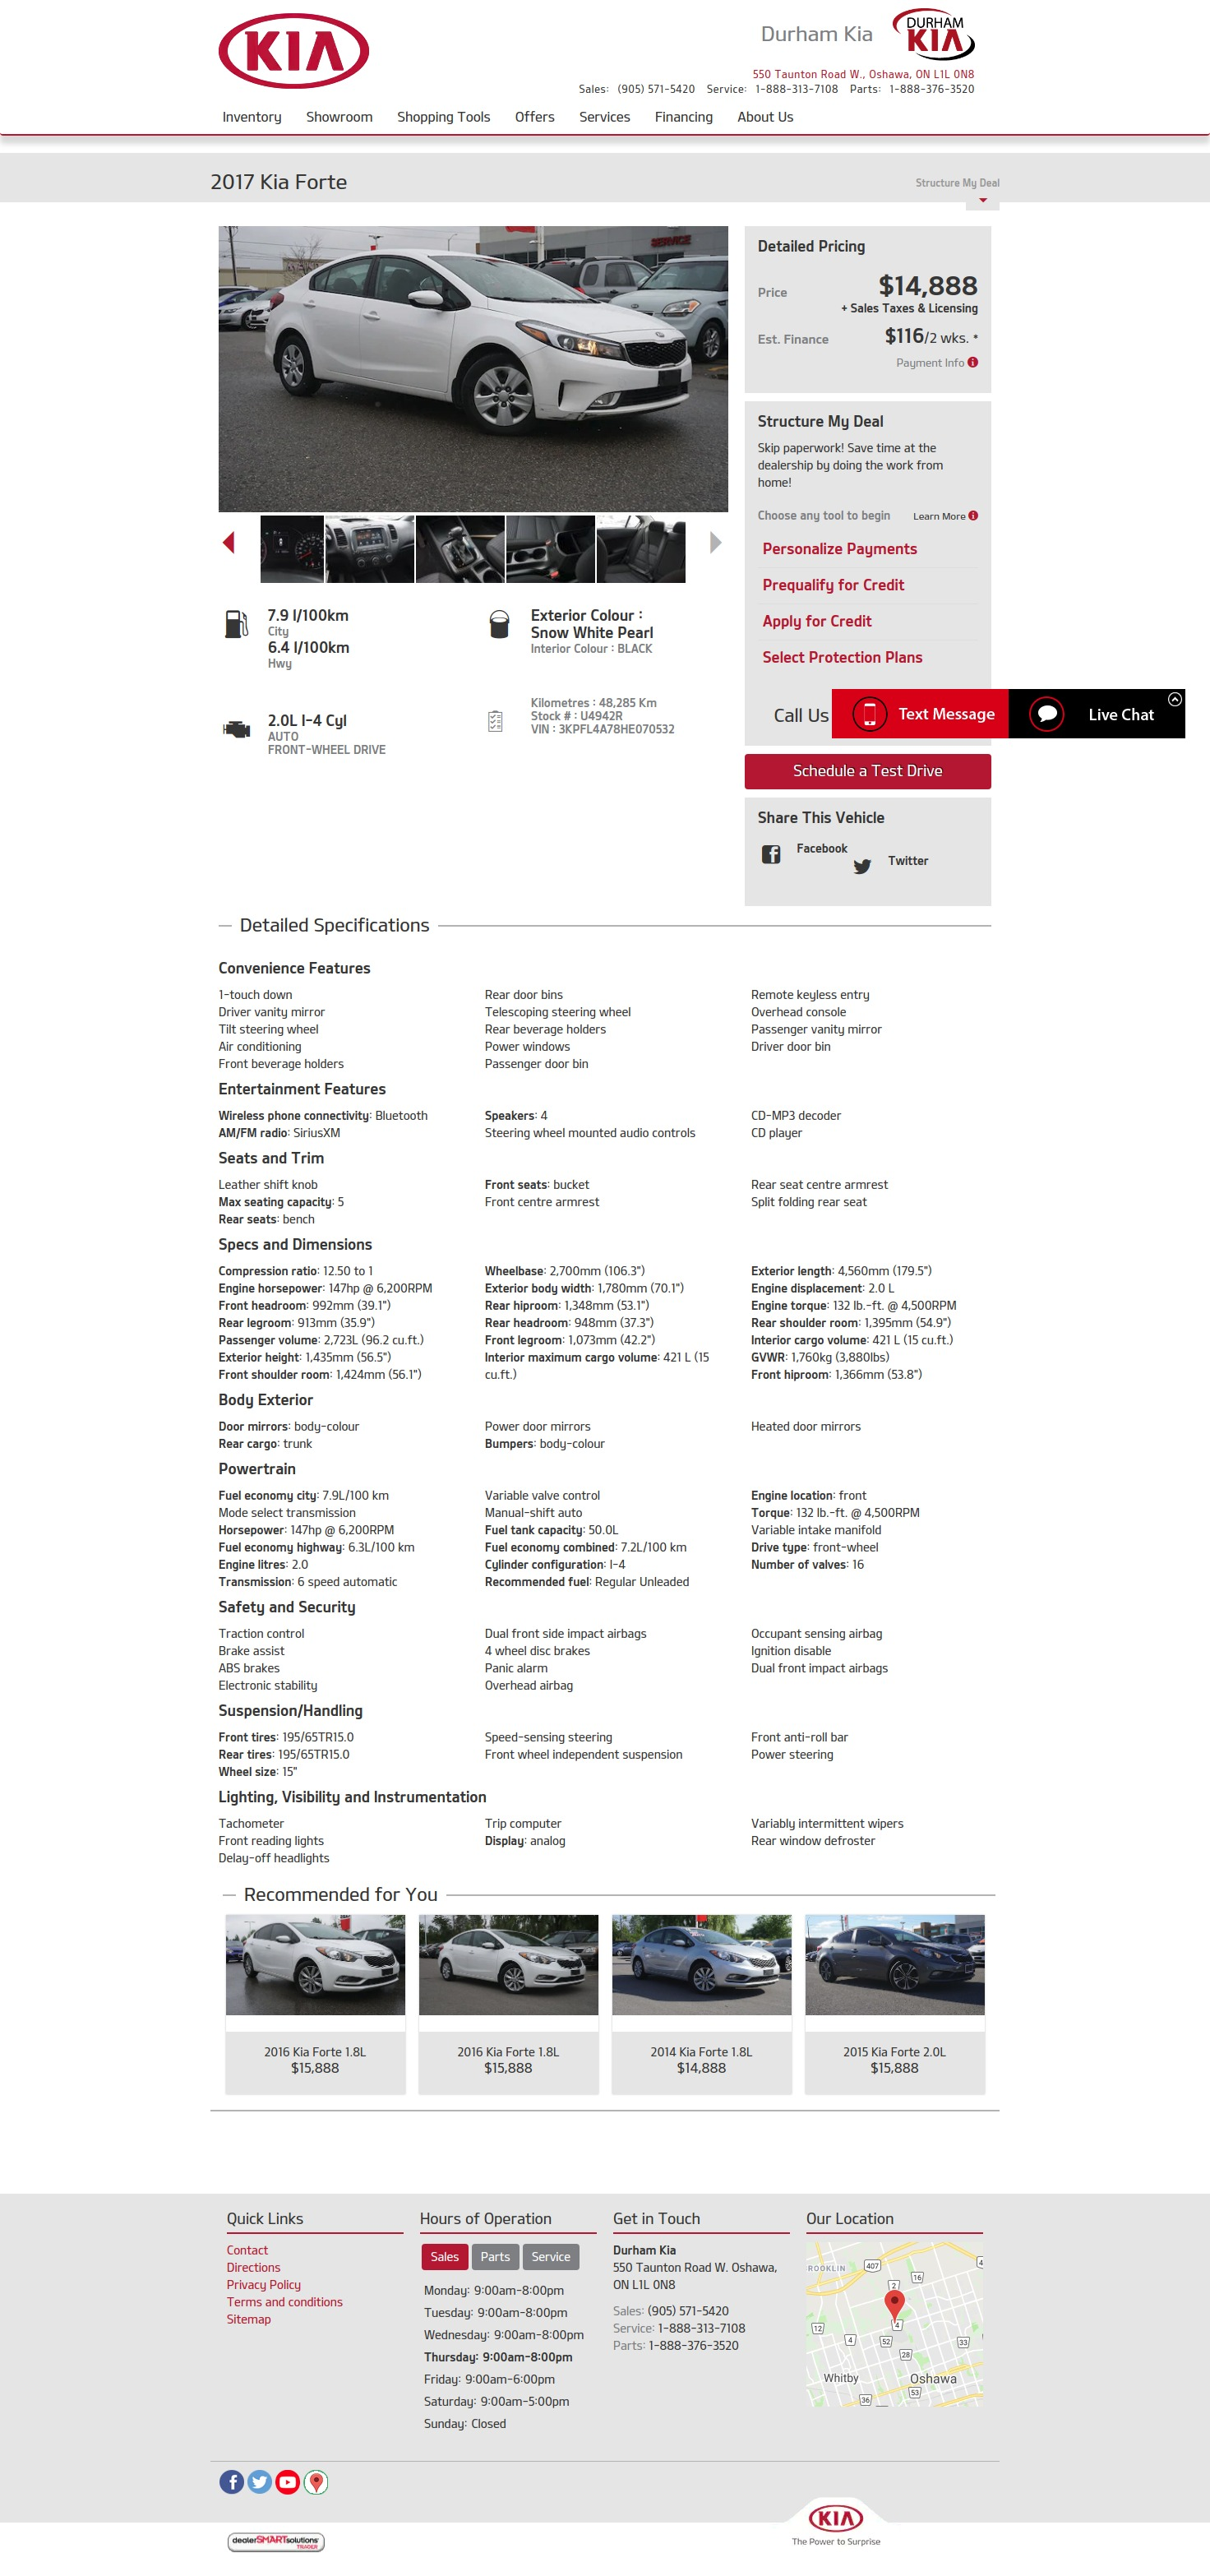car: (711, 532, 722, 555)
